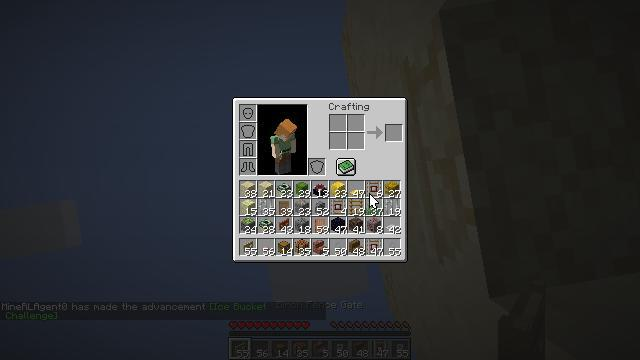cursor: (369, 193, 379, 209)
